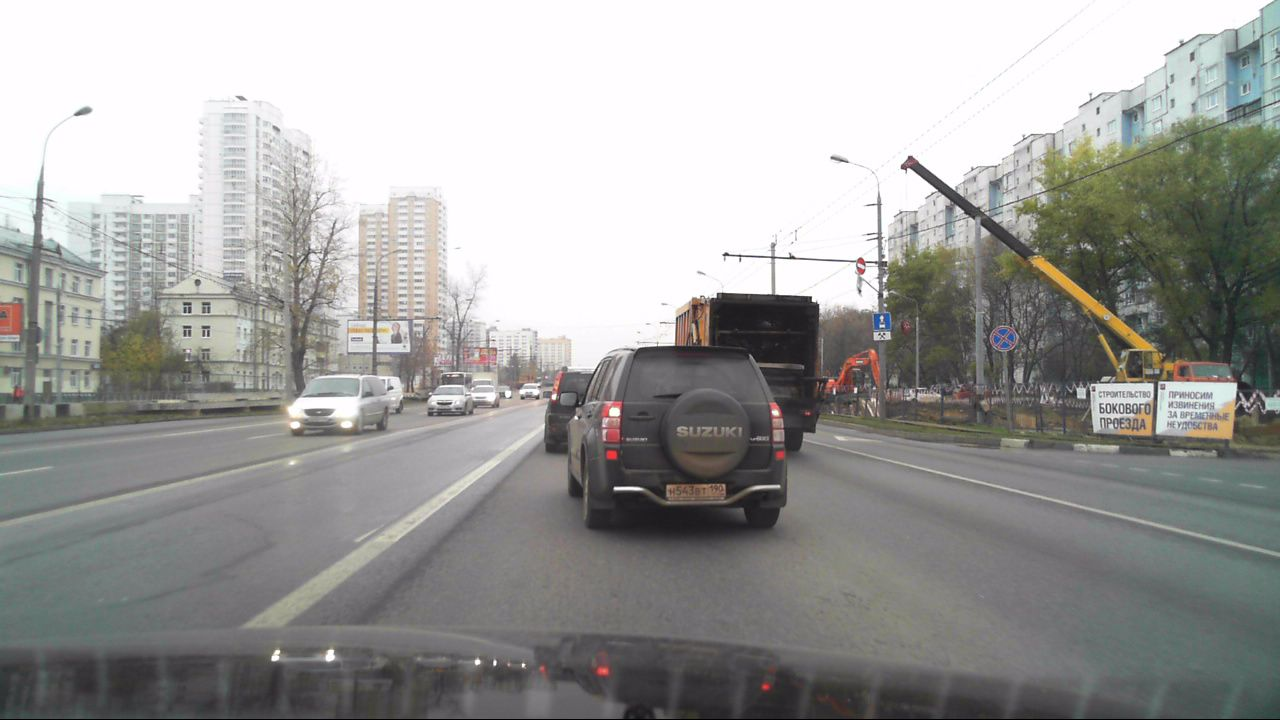No Parking: (990, 326, 1017, 352)
